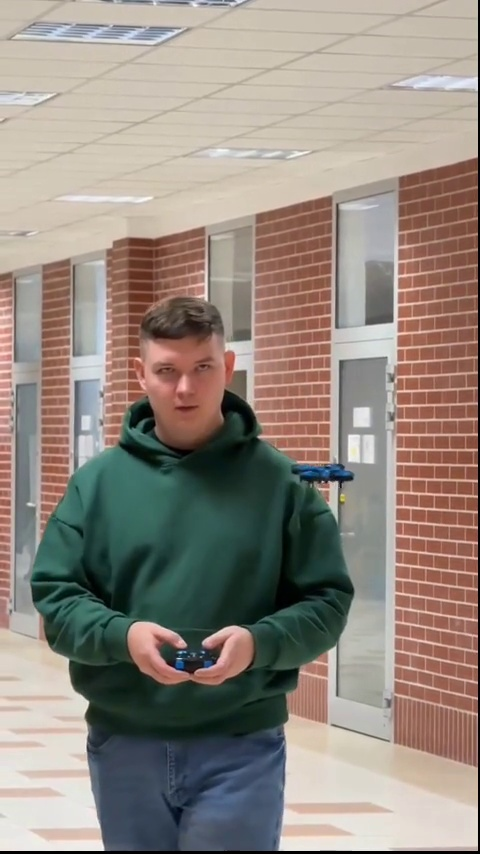drone: (295, 462, 358, 492)
no vest: (38, 289, 359, 830)
